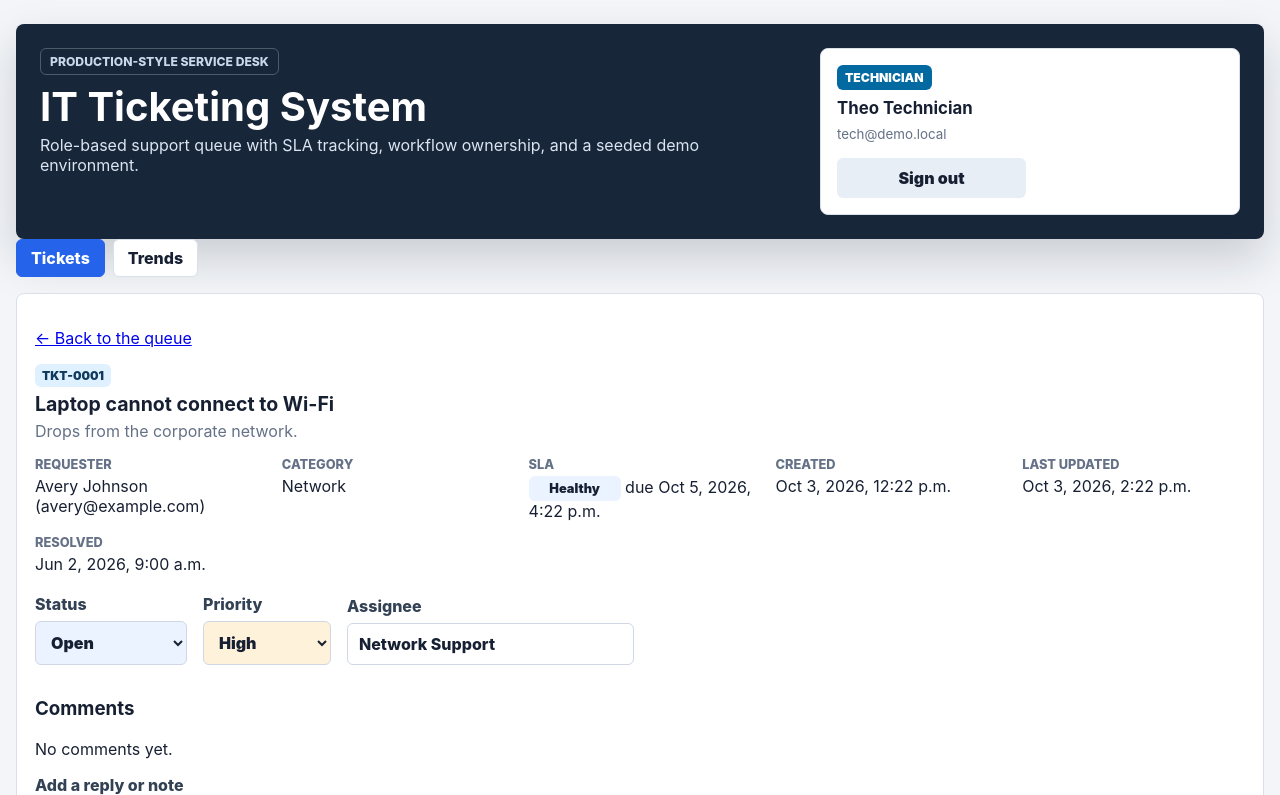
Test: ticket detail › sends an edit with the ticket version
Expected: the heading "Laptop cannot connect to Wi-Fi" is shown, [35,392,334,416]
Select "Urgent" in the dropdown named "Priority for TKT-0001" at (267, 643), box [203,621,331,665]
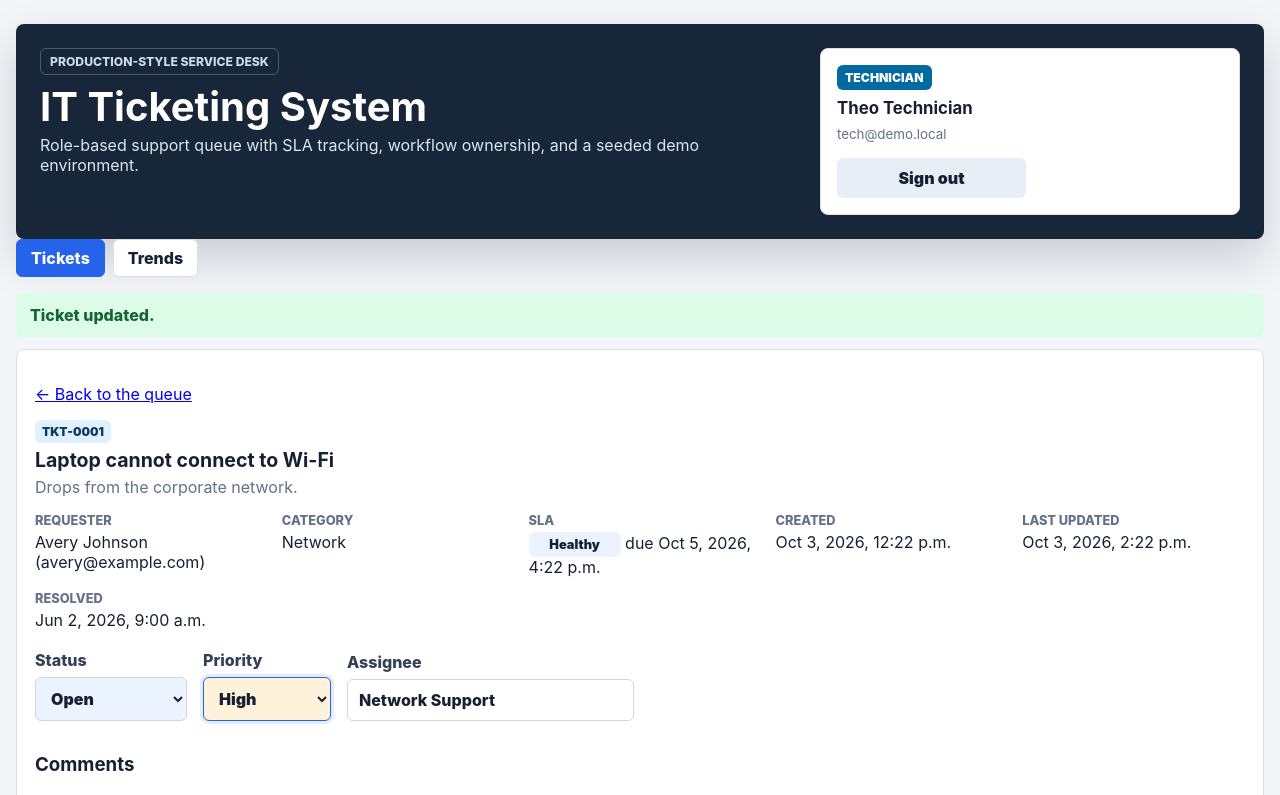
Expected: the text "Ticket updated." is shown, [30,305,155,325]
